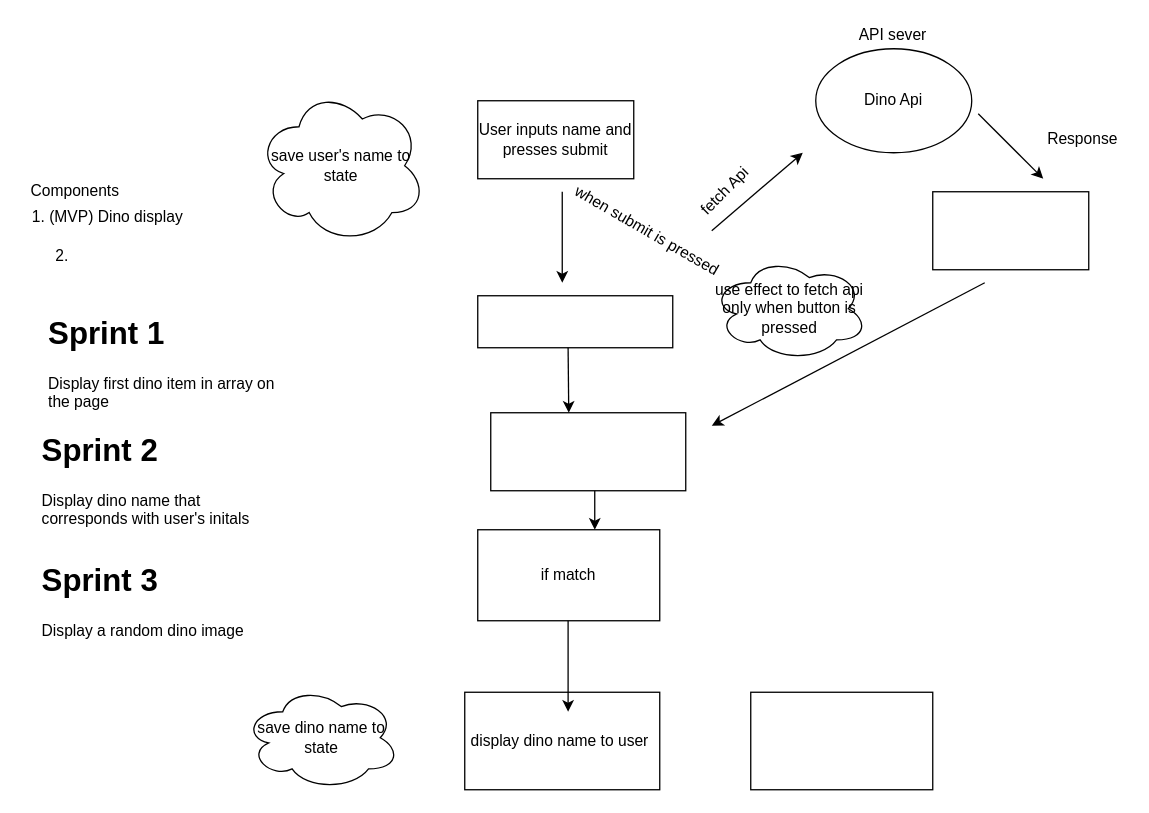
The diagram is 1149 pixels wide and 813 high, and some of its shapes have lost their labels. The shapes that lost their labels are listed below. From the top down, each one's centre as x and y in pixels, then its label:
At point (1010, 230): "A-Z array of dinosour names".
At point (574, 321): "get first character of the name".
At point (587, 451): "compare first character of name with first character of dinosour array".
At point (841, 740): "show default case".
